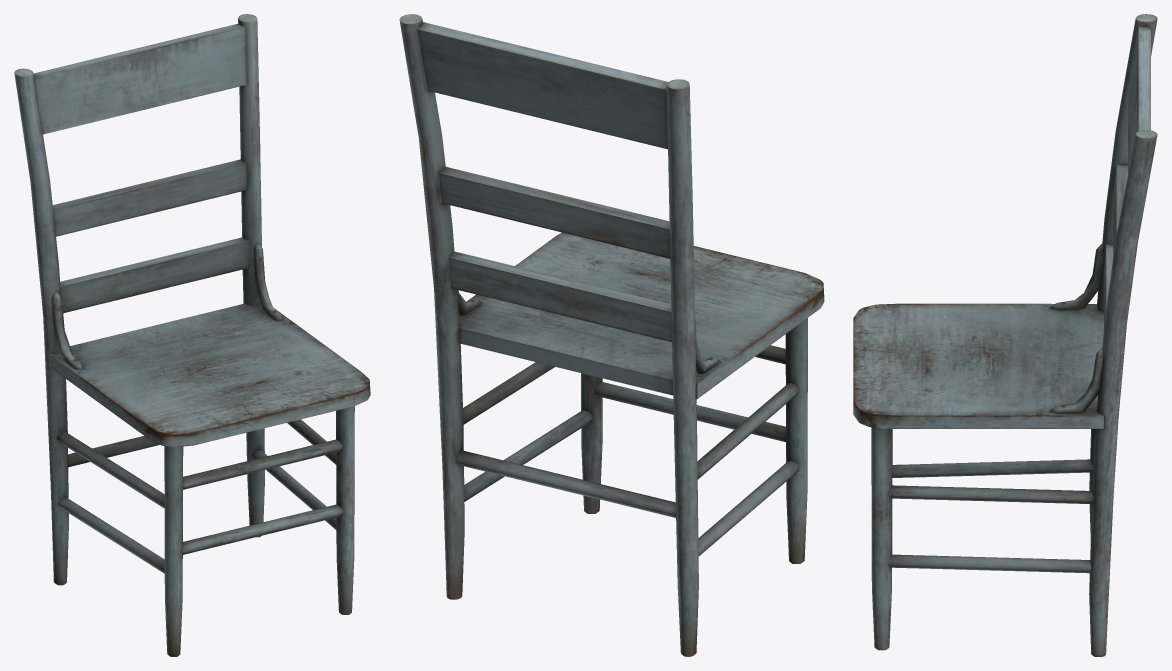
The model's file is painted_wooden_chair_02.glb.
The picture shows the model from 3 angles, left to right: view 1: azimuth 30°, elevation 25°; view 2: azimuth 150°, elevation 25°; view 3: azimuth 270°, elevation 25°; orthographic projection. The views are drawn at different scales.
Visible parts, largest first — view 1: painted_wooden_chair_02; view 2: painted_wooden_chair_02; view 3: painted_wooden_chair_02.
Boxes of the visible parts, x1,y1,x2,y2 form: painted_wooden_chair_02: (14, 14, 370, 656); painted_wooden_chair_02: (399, 14, 824, 656); painted_wooden_chair_02: (853, 14, 1157, 656).
Bounding box in the file's own units: 0.6394 × 1.26 × 0.6606.
Materials: 1 (1 with a texture image).
